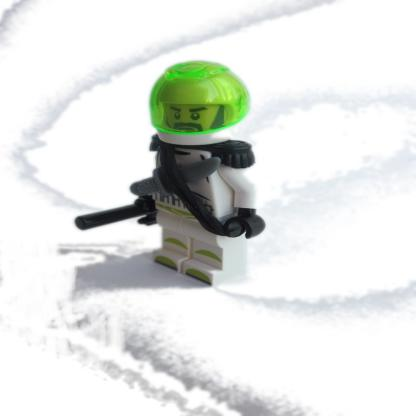Helmet: (140, 62, 246, 141)
